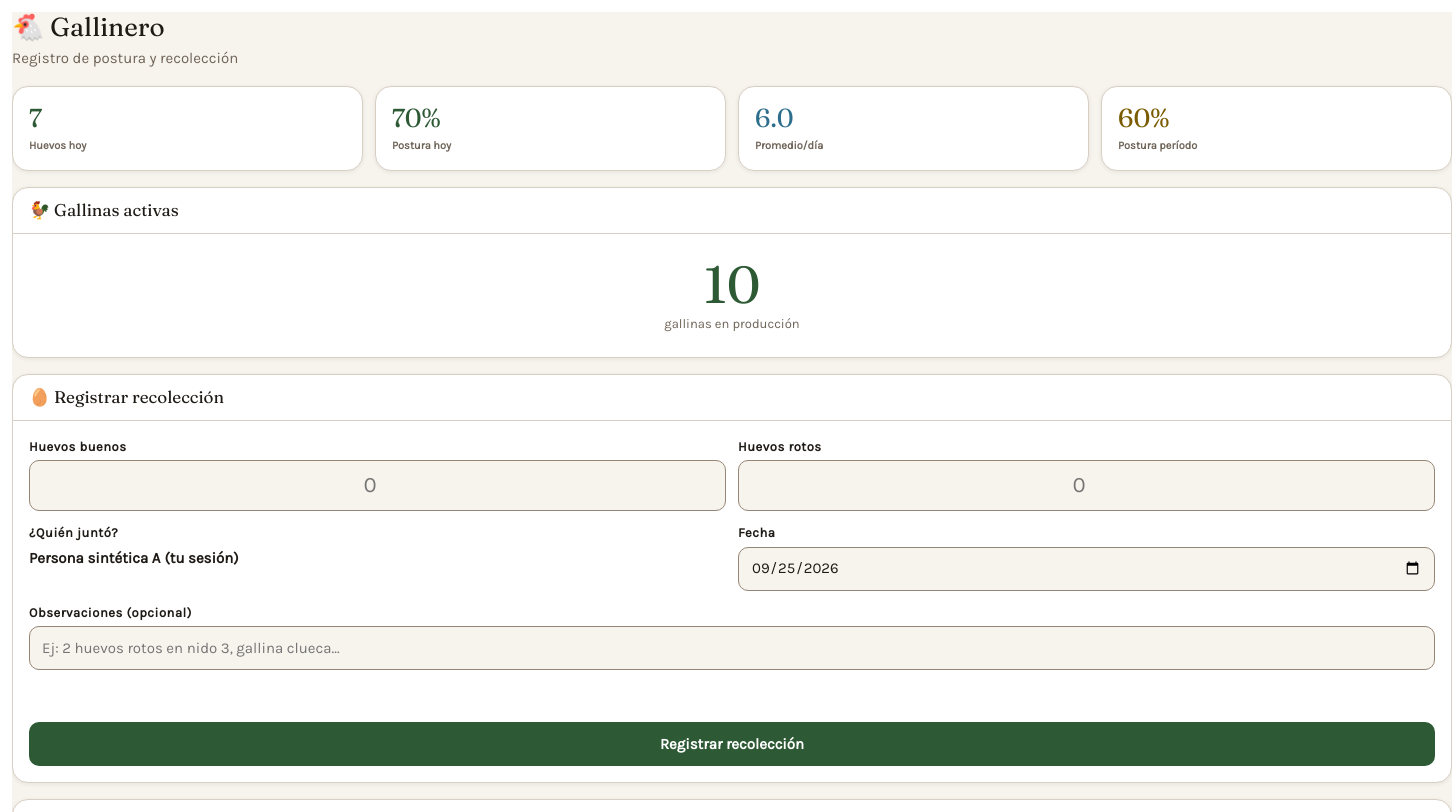
Gallinero — pantalla del prototipo › EMPLOYEE registra: sin persona en el body, fecha de negocio, Idempotency-Key e invalidación
The image size is (1452, 812).
Check: the list named "Indicadores del gallinero" is shown, box [12, 86, 1451, 171]
Click the button "Registrar recolección".
click(732, 744)  # box [29, 722, 1435, 766]
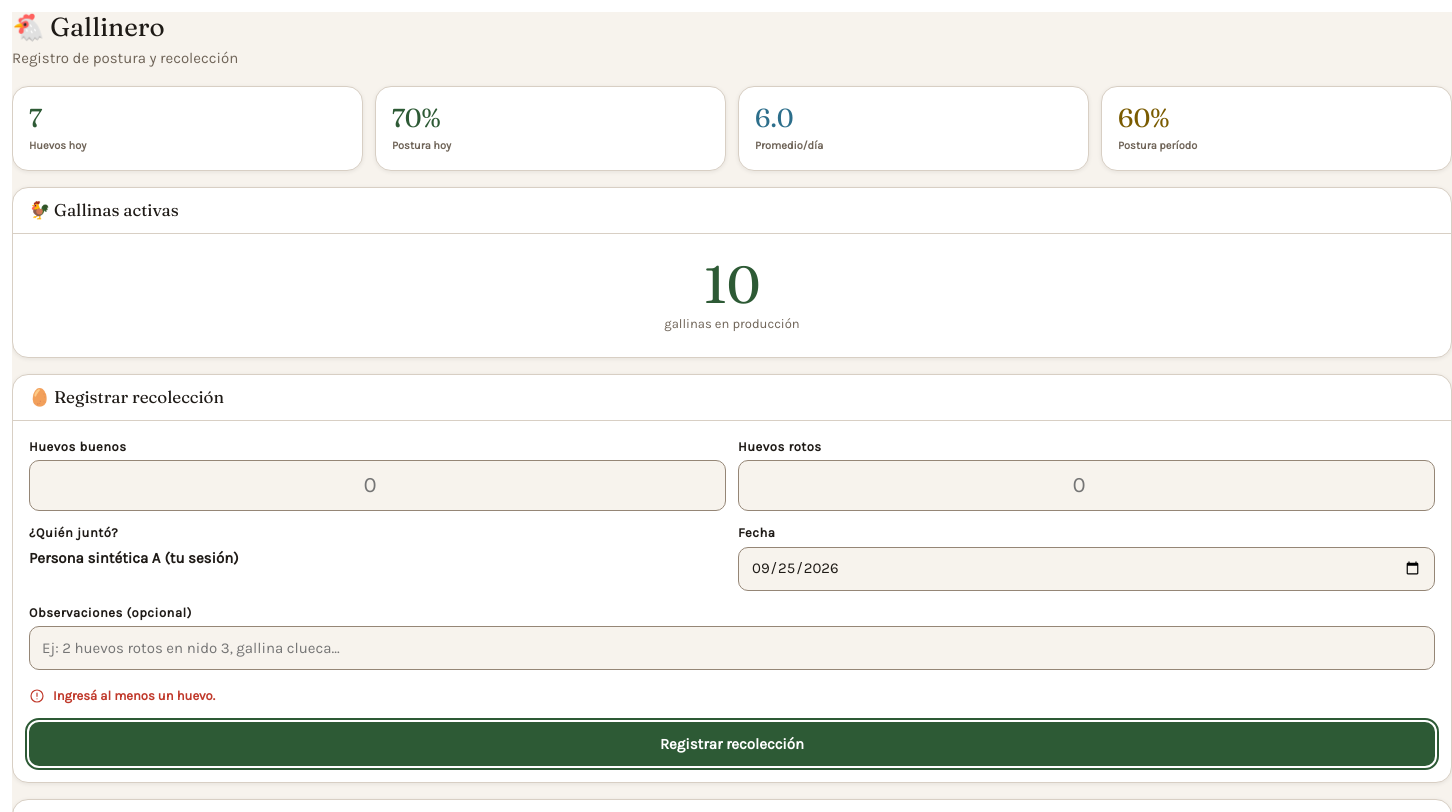
Check: the message reads "Ingresá al menos un huevo.", box [53, 688, 215, 703]
Type "5" into the number field labelled "Huevos buenos".
click(378, 486); type("5")  # box [29, 460, 726, 511]
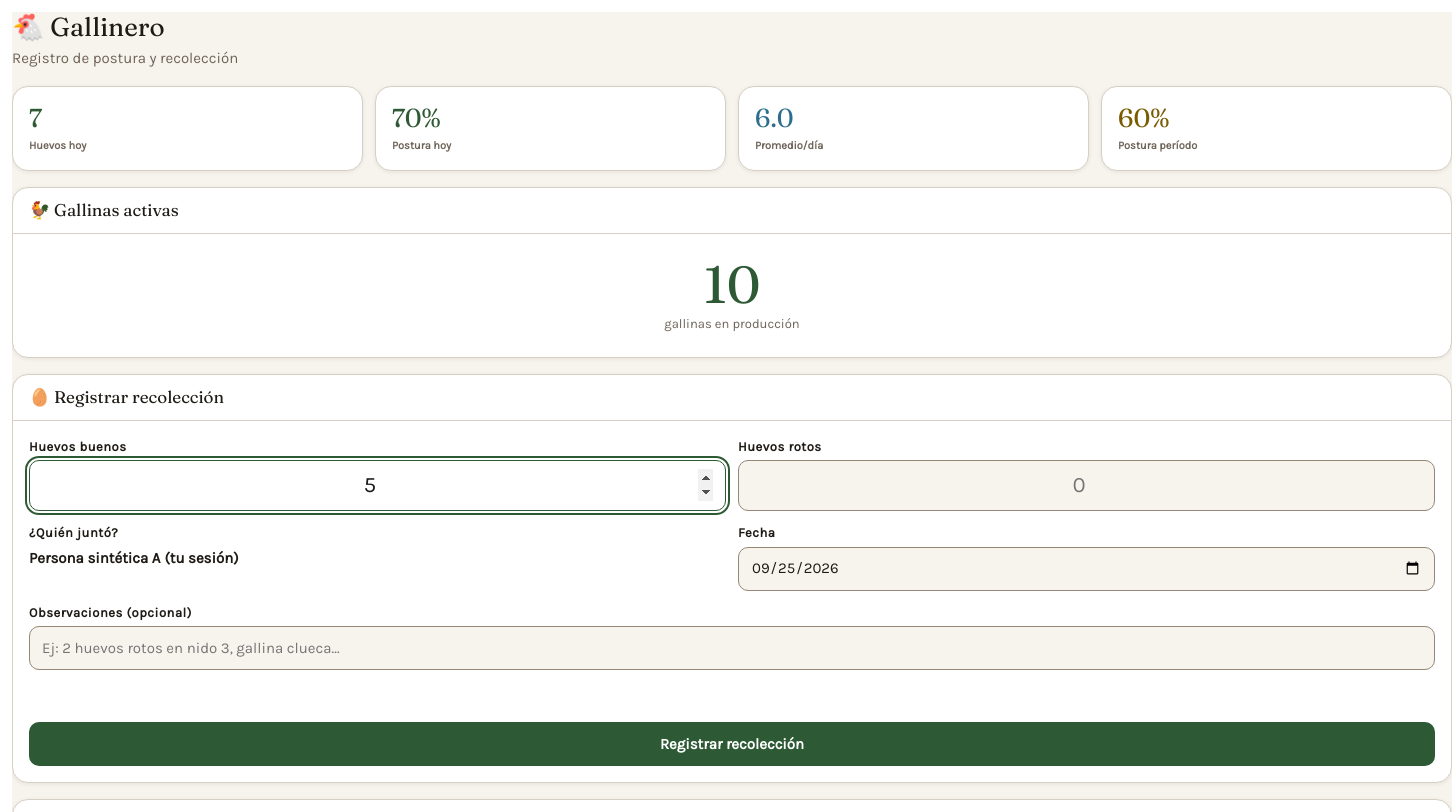
Type "  nido   3 " into the field labelled "Observaciones (opcional)".
click(732, 648); type("  nido   3 ")  # box [29, 626, 1435, 670]
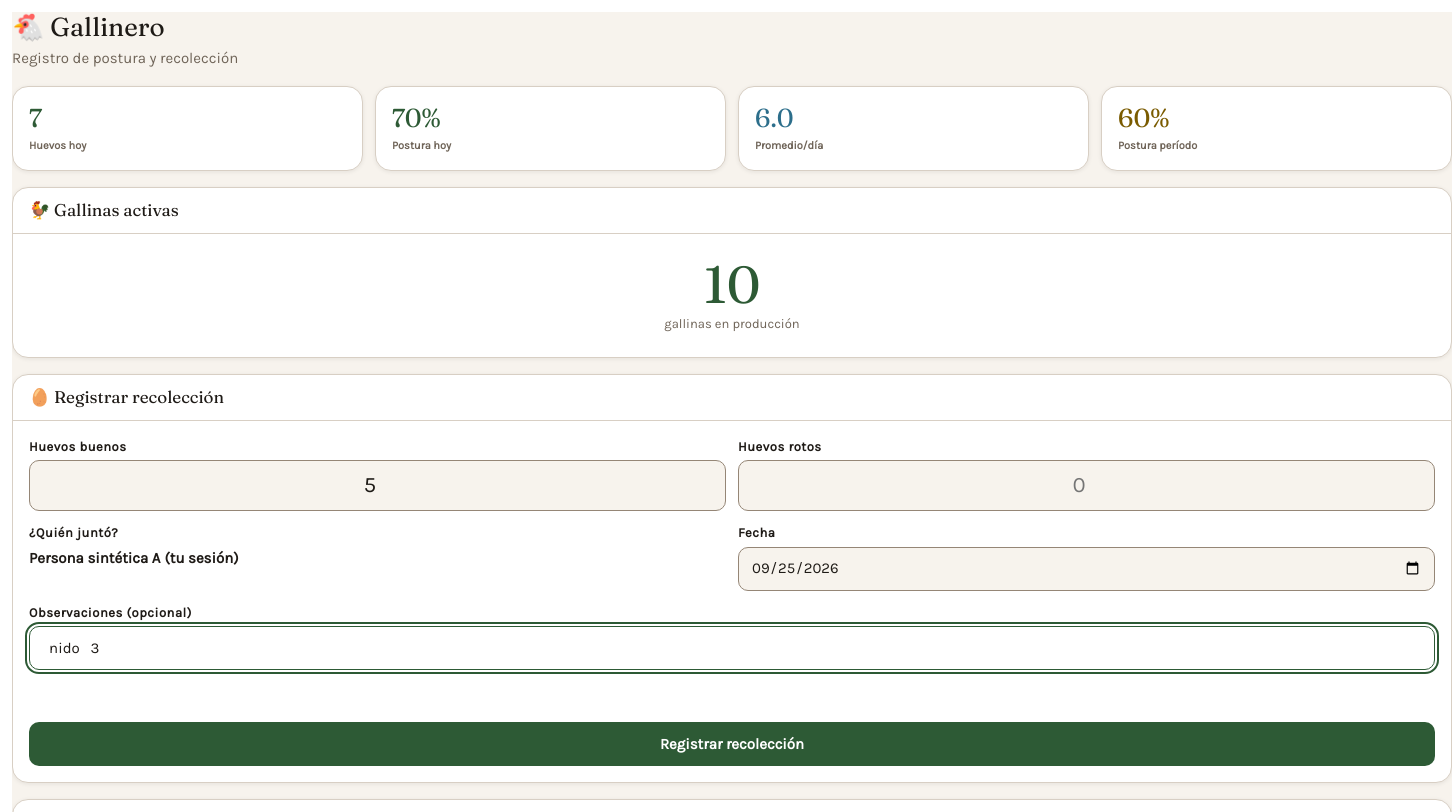
Click the button "Registrar recolección".
click(732, 744)  # box [29, 722, 1435, 766]
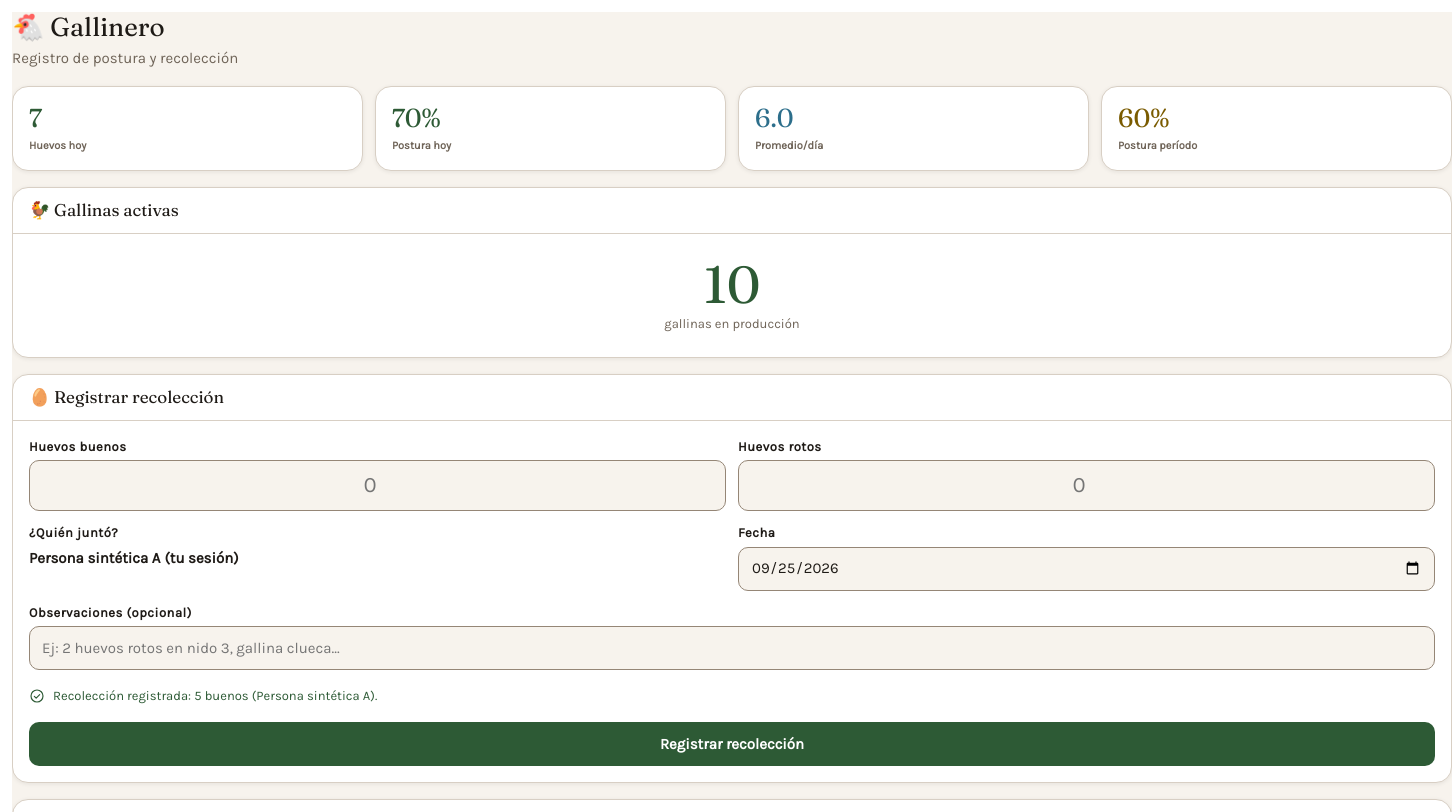
Check: the text "Recolección registrada: 5 buenos (Persona sintética A)." is shown, box [29, 686, 377, 706]
Check: the number field labelled "Huevos buenos" is not empty, box [29, 460, 726, 511]
